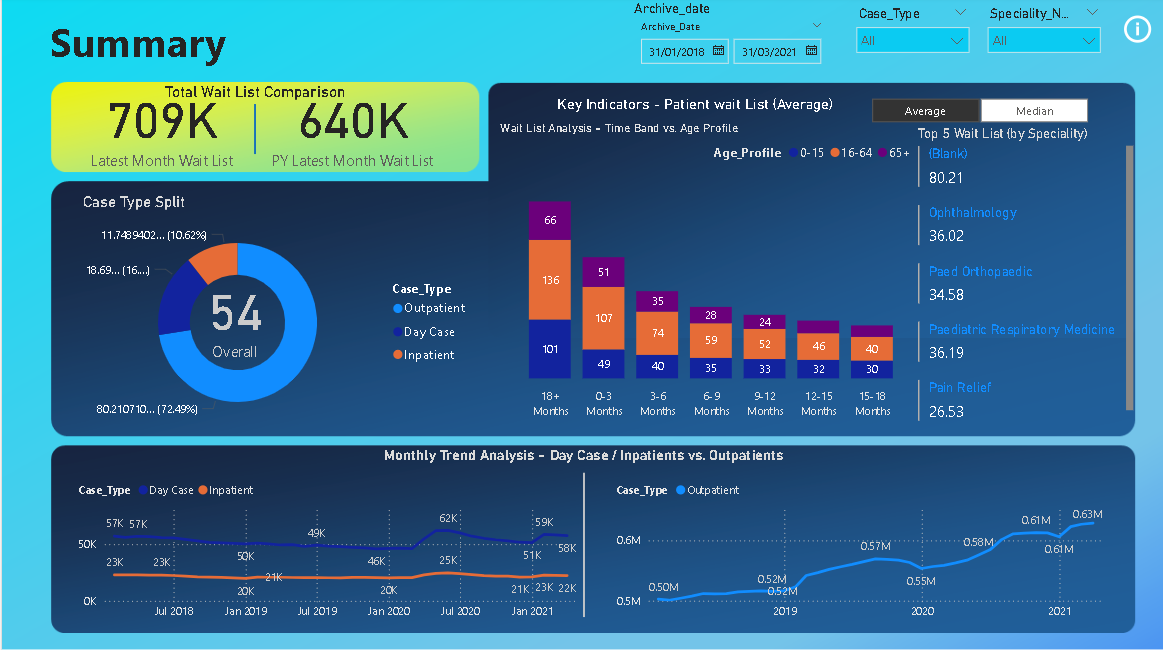

The page's visual inventory and layout, read from the dashboard file:
{"tool":"powerbi","page":{"name":"Summary","canvas":[1280,720],"ordinal":0},"visuals":[{"type":"card","fields":{"Values":["All_Data.Latest Month Wait List"]},"box":[40.4,85.2,272.2,112.4],"z":0},{"type":"card","fields":{"Values":["All_Data.PY Latest Month Wait List"]},"box":[241.5,85.2,288,112.4],"z":1000},{"type":"donutChart","title":"Case Type Split","fields":{"Category":["All_Data.Case_Type"],"Y":["All_Data.Avg/Med Wait List"]},"box":[83.4,215.8,434,267.3],"z":2000},{"type":"slicer","fields":{"Values":["Calculation Method (2).Calc Method"]},"box":[928.4,105.5,287.3,39.9],"z":3000},{"type":"columnChart","title":"Wait List Analysis - Time Band vs. Age Profile","fields":{"Y":["All_Data.Avg/Med Wait List"],"Category":["All_Data.Time_Bands"],"Series":["All_Data.Age_Profile"]},"box":[541.9,137.3,465.9,333.5],"z":4000},{"type":"multiRowCard","title":"Top 5 Wait List (by Speciality)","fields":{"Values":["All_Data.Specialty_Name","All_Data.Avg/Med Wait List"]},"box":[1000.9,143.1,246.5,333.9],"z":5000},{"type":"shape","title":"Monthly Trend Analysis - Day Case / Inpatients vs. Outpatients","box":[392.3,495.3,492.9,186.4],"z":5500},{"type":"card","fields":{"Values":["All_Data.NoDataLeft"]},"box":[186.4,522.3,355.6,159.4],"z":6000},{"type":"lineChart","fields":{"Category":["All_Data.Archive_Date"],"Y":["Sum(All_Data.Total)"],"Series":["All_Data.Case_Type"]},"box":[79.5,523,568,171.4],"z":7000},{"type":"card","fields":{"Values":["All_Data.NoDataRight"]},"box":[770,514.5,354.7,159.8],"z":8000},{"type":"lineChart","fields":{"Category":["All_Data.Archive_Date"],"Y":["Sum(All_Data.Total)"],"Series":["All_Data.Case_Type"]},"box":[670,523.3,545.3,171.2],"z":9000},{"type":"slicer","title":"Archive_date","fields":{"Values":["All_Data.Archive_Date"]},"box":[688.4,6.1,223.9,95.7],"z":10000},{"type":"slicer","fields":{"Values":["All_Data.Case_Type"]},"box":[928.1,6.1,144,70.2],"z":11000},{"type":"slicer","fields":{"Values":["All_Data.Speciality_Name"]},"box":[1072.1,6.1,144,70.2],"z":12000},{"type":"textbox","box":[48.3,15.8,212.5,79.9],"z":13000},{"type":"shape","title":"Total Wait List Comparison","box":[127.3,94.8,300.3,79],"z":14000},{"type":"card","fields":{"Values":["All_Data.Avg/Med Wait List"]},"box":[134.9,228,242.8,247.7],"z":16000},{"type":"card","fields":{"Values":["All_Data.Dynamic Title"]},"box":[530.9,94.6,460,49.9],"z":17000},{"type":"actionButton","box":[1227,15.9,39.8,39.8],"z":18000}]}

Visuals, with their boxes in screenshot pixels (x1, y1, x2, y2), scaled from the page's 1280x720 canvas onto the 1163x650 screenshot:
card - All_Data.Latest Month Wait List: {"x1": 37, "y1": 77, "x2": 284, "y2": 178}
card - All_Data.PY Latest Month Wait List: {"x1": 219, "y1": 77, "x2": 481, "y2": 178}
"Case Type Split" donutChart: {"x1": 76, "y1": 195, "x2": 470, "y2": 436}
slicer - Calculation Method (2).Calc Method: {"x1": 844, "y1": 95, "x2": 1105, "y2": 131}
"Wait List Analysis - Time Band vs. Age Profile" columnChart: {"x1": 492, "y1": 124, "x2": 916, "y2": 425}
"Top 5 Wait List (by Speciality)" multiRowCard: {"x1": 909, "y1": 129, "x2": 1133, "y2": 431}
"Monthly Trend Analysis - Day Case / Inpatients vs. Outpatients" shape: {"x1": 356, "y1": 447, "x2": 804, "y2": 615}
card - All_Data.NoDataLeft: {"x1": 169, "y1": 472, "x2": 492, "y2": 615}
lineChart - All_Data.Archive_Date x Sum(All_Data.Total): {"x1": 72, "y1": 472, "x2": 588, "y2": 627}
card - All_Data.NoDataRight: {"x1": 700, "y1": 464, "x2": 1022, "y2": 609}
lineChart - All_Data.Archive_Date x Sum(All_Data.Total): {"x1": 609, "y1": 472, "x2": 1104, "y2": 627}
"Archive_date" slicer: {"x1": 625, "y1": 6, "x2": 829, "y2": 92}
slicer - All_Data.Case_Type: {"x1": 843, "y1": 6, "x2": 974, "y2": 69}
slicer - All_Data.Speciality_Name: {"x1": 974, "y1": 6, "x2": 1105, "y2": 69}
textbox: {"x1": 44, "y1": 14, "x2": 237, "y2": 86}
"Total Wait List Comparison" shape: {"x1": 116, "y1": 86, "x2": 389, "y2": 157}
card - All_Data.Avg/Med Wait List: {"x1": 123, "y1": 206, "x2": 343, "y2": 429}
card - All_Data.Dynamic Title: {"x1": 482, "y1": 85, "x2": 900, "y2": 130}
actionButton: {"x1": 1115, "y1": 14, "x2": 1151, "y2": 50}
